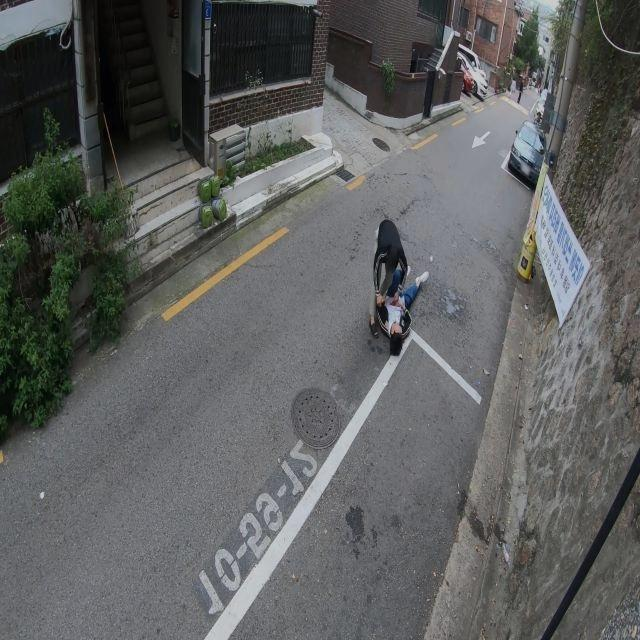fight: (371, 218, 427, 357)
